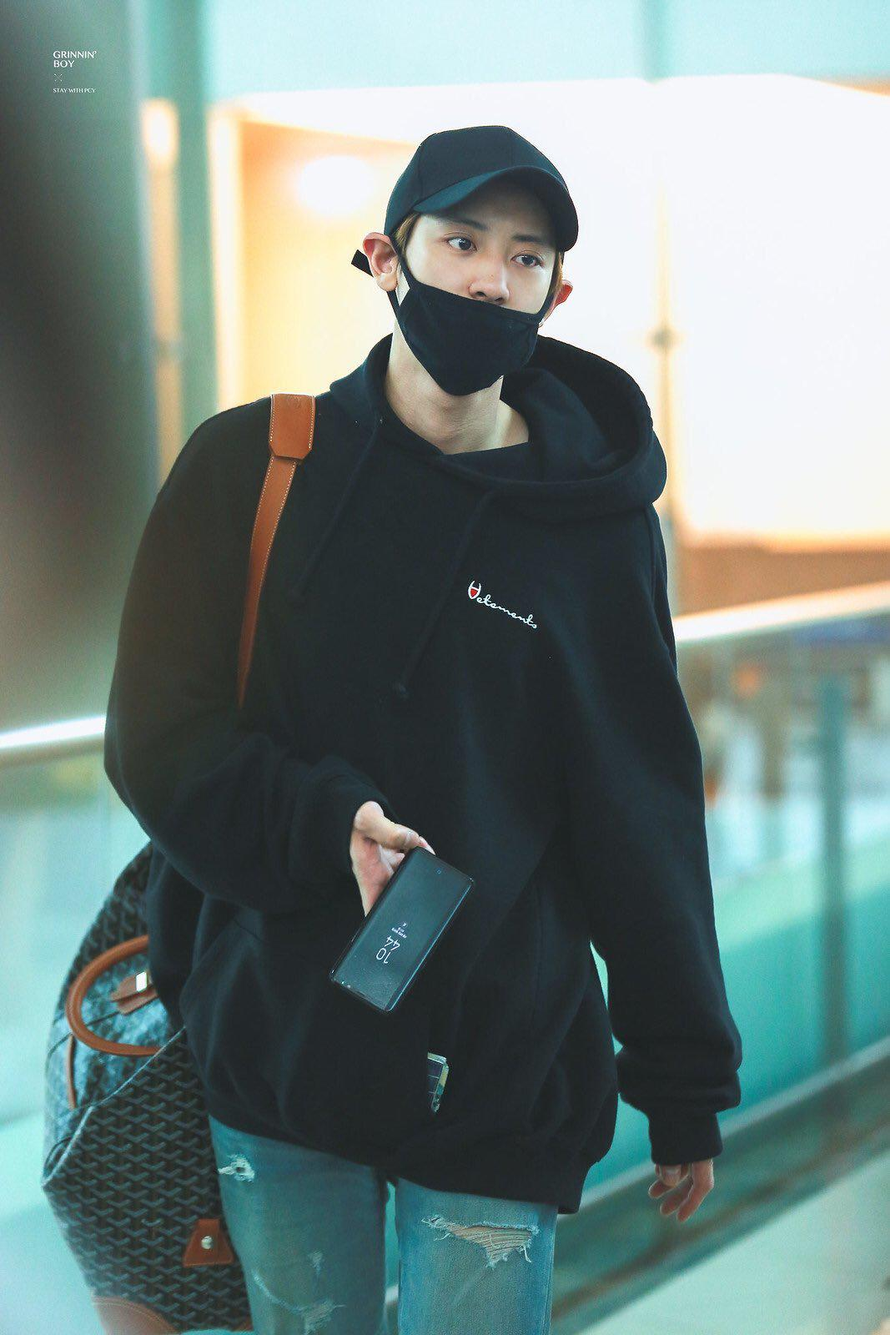WRONG: (405, 199, 555, 390)
